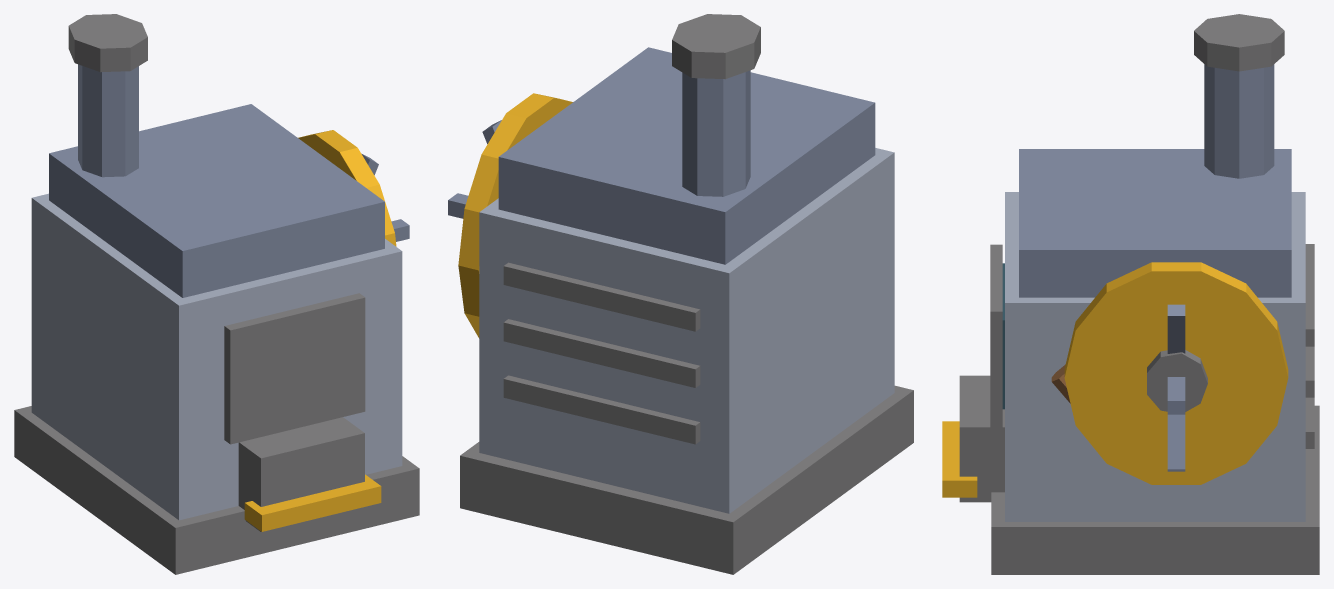
File: machine_slow.glb
3 renders of one model, left to right at view 1: azimuth 30°, elevation 25°; view 2: azimuth 150°, elevation 25°; view 3: azimuth 270°, elevation 25°, orthographic. The views are drawn at different scales.
Visible parts, largest first — view 1: machine_slow; view 2: machine_slow; view 3: machine_slow.
Part boxes in pixels (box(x1,y1,x2,y2)): machine_slow: box(14, 14, 419, 574); machine_slow: box(448, 14, 913, 574); machine_slow: box(942, 14, 1319, 574).
Bounding box in the file's own units: 1 × 1.31 × 1.
